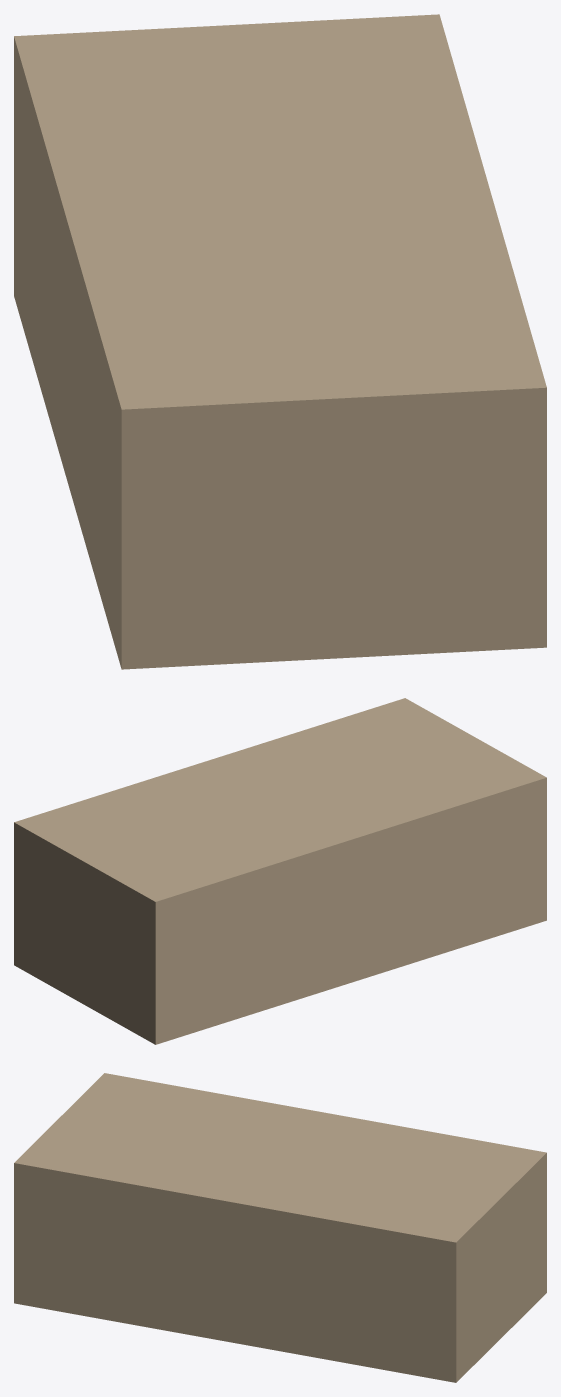
File: bld_104408984.dae
The picture shows the model from 3 angles, top to bottom: view 1: azimuth 30°, elevation 25°; view 2: azimuth 150°, elevation 25°; view 3: azimuth 270°, elevation 25°; orthographic projection. The views are drawn at different scales.
Parts seen in each view (by area): view 1: bld_104408984; view 2: bld_104408984; view 3: bld_104408984.
Boxes of the visible parts, x1,y1,x2,y2 form: bld_104408984: (14,14,546,669); bld_104408984: (14,698,546,1044); bld_104408984: (14,1073,546,1382).
Size of the model in its own units: 20.73 by 27.53 by 8.
